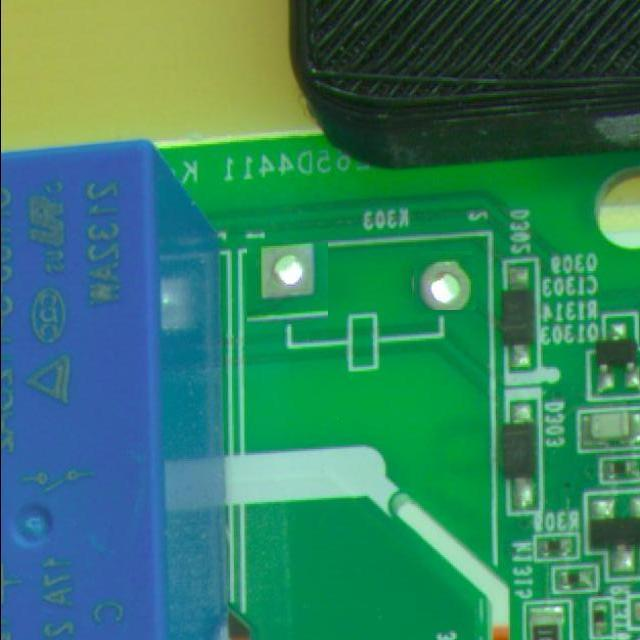lack_of_part: (246, 241, 328, 322), (415, 253, 474, 312)
